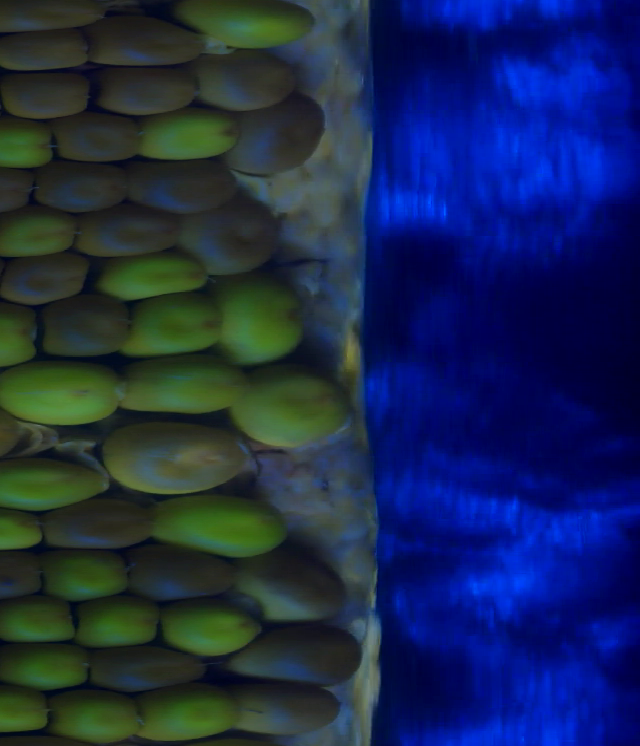fluorescent: (143, 495, 299, 562), (238, 367, 353, 450), (0, 450, 113, 517), (212, 280, 303, 361), (0, 362, 117, 422), (187, 1, 325, 48), (161, 602, 272, 659), (120, 369, 240, 420), (124, 298, 221, 358), (129, 117, 246, 165), (51, 688, 144, 746), (142, 689, 239, 740), (101, 251, 216, 294), (0, 648, 95, 695), (0, 209, 79, 259), (72, 598, 165, 640), (43, 552, 132, 595), (0, 600, 73, 641), (0, 121, 57, 166), (0, 310, 40, 372), (0, 691, 55, 735), (0, 514, 43, 555)
nonfluorescent: (106, 424, 250, 494), (244, 546, 355, 622), (235, 626, 365, 687), (190, 196, 283, 278), (92, 14, 209, 73), (66, 204, 185, 261), (240, 96, 321, 177), (35, 295, 136, 357), (132, 157, 240, 214), (43, 500, 166, 550), (195, 55, 296, 113), (127, 546, 235, 599), (238, 684, 346, 737), (79, 644, 216, 684), (35, 162, 132, 215), (5, 252, 95, 309), (92, 67, 195, 113), (0, 1, 113, 39), (59, 115, 138, 161), (0, 37, 92, 72), (1, 80, 91, 115), (0, 555, 47, 595), (0, 169, 35, 217)
